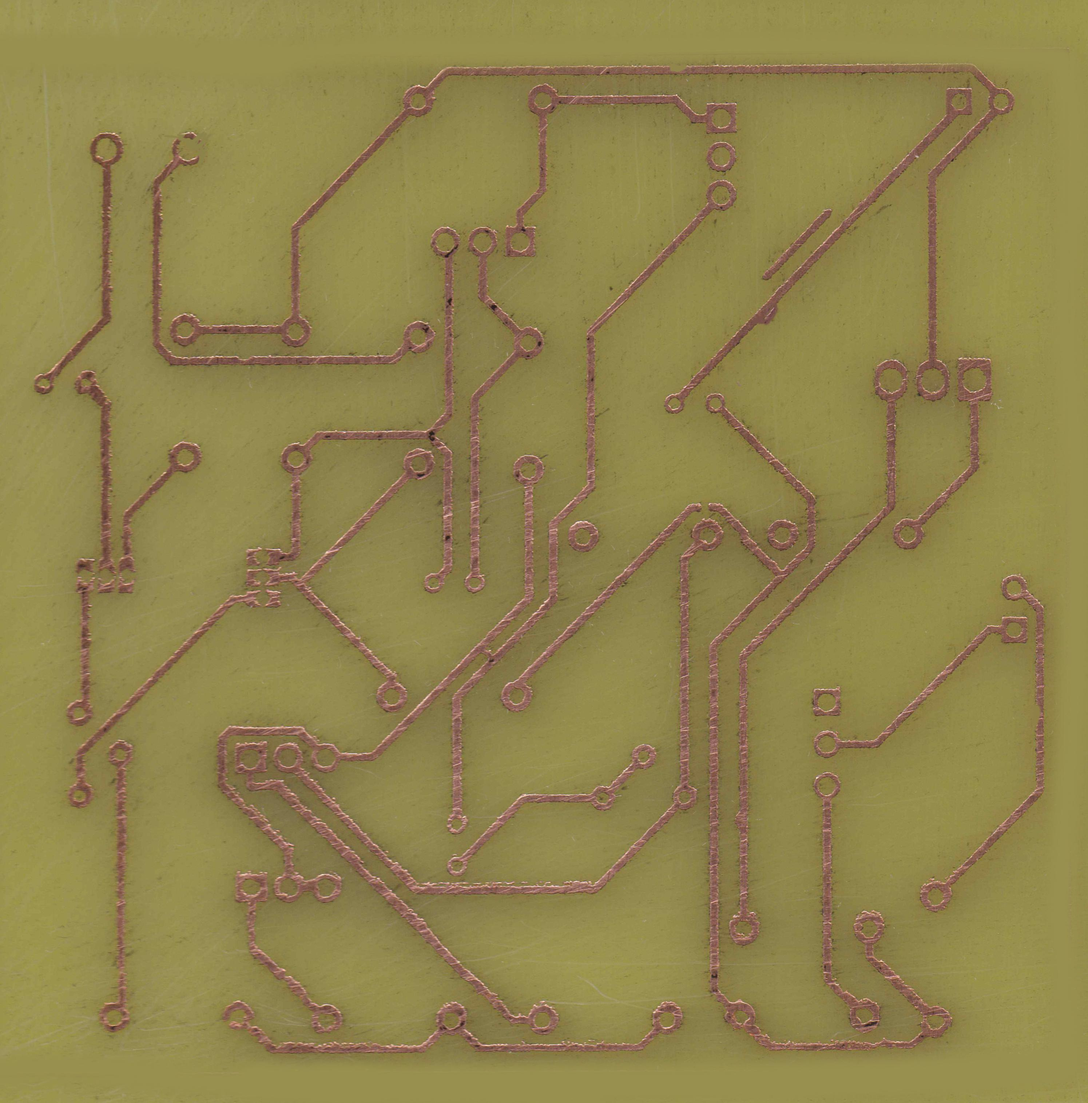missing_hole: (171, 130, 203, 166), (222, 1001, 254, 1032), (244, 589, 283, 609), (96, 556, 115, 595), (75, 557, 95, 594), (117, 556, 135, 593), (246, 548, 282, 566)
mouse_bite: (664, 63, 693, 78)
open_circuit: (693, 498, 718, 516)
spur: (752, 300, 778, 326), (731, 807, 751, 831)
spurious_copper: (761, 207, 833, 281)
